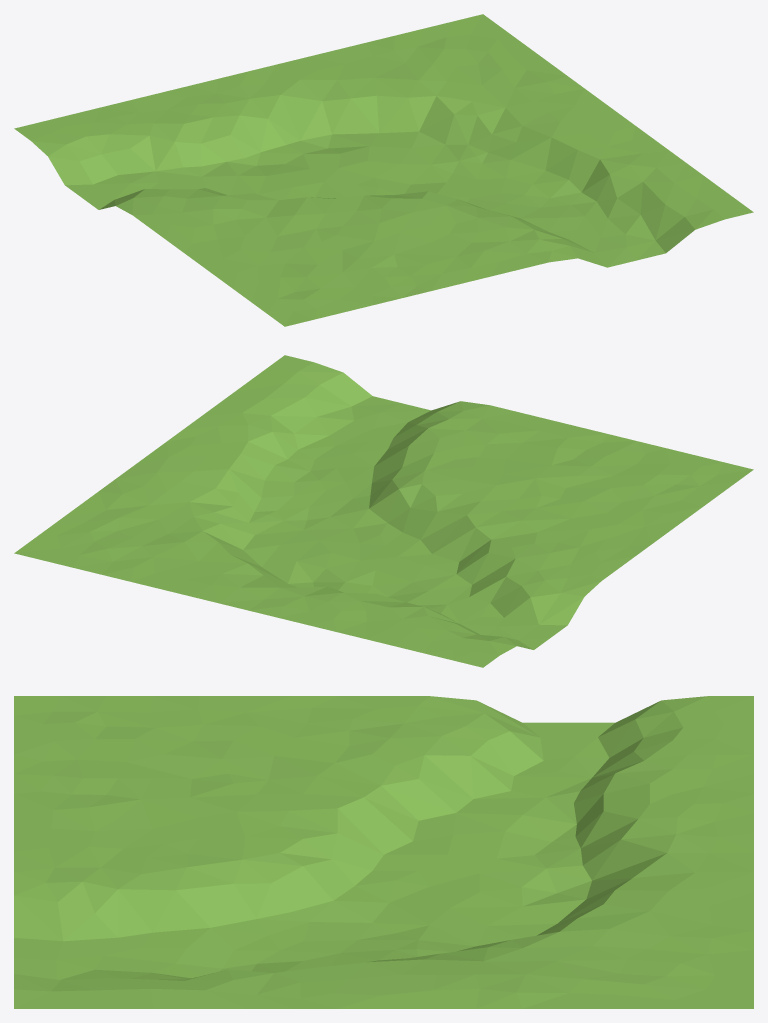
Rendered from MT_River_M_b_02_R.fbx.
The picture shows the model from 3 angles, top to bottom: view 1: azimuth 30°, elevation 25°; view 2: azimuth 150°, elevation 25°; view 3: azimuth 270°, elevation 25°; orthographic projection. The views are drawn at different scales.
Visible parts, largest first — view 1: MT_River_M_b_02_R; view 2: MT_River_M_b_02_R; view 3: MT_River_M_b_02_R.
Boxes of the visible parts, bbox=[...] form: MT_River_M_b_02_R: bbox=[14, 14, 753, 326]; MT_River_M_b_02_R: bbox=[14, 355, 753, 667]; MT_River_M_b_02_R: bbox=[14, 696, 753, 1008].
Size of the model in its own units: 50 by 2.8 by 50.
